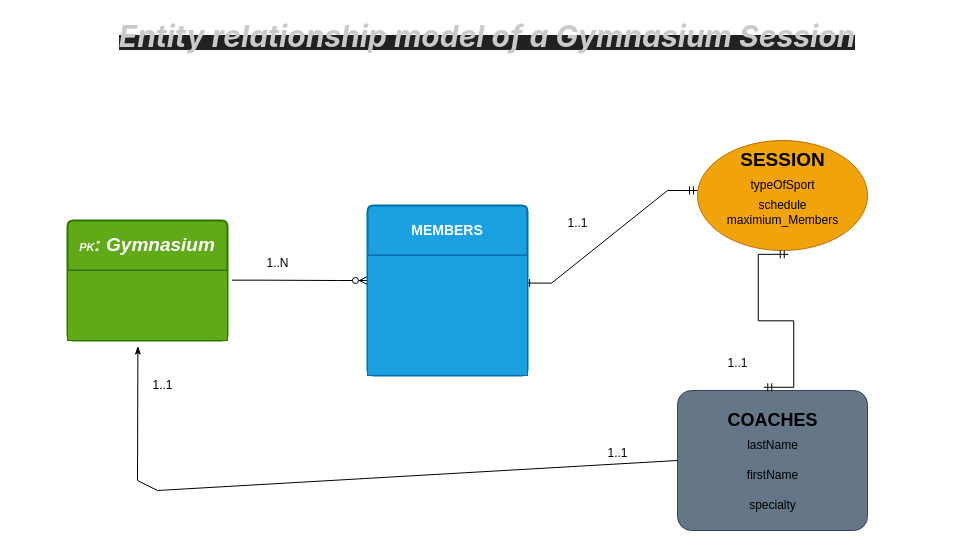
Some shapes in this 974 by 548 pixel diagram are drawn without their labels. Each missing label, with the centre of its shape:
"Name Addrress TelephoneNumber" goes at (147,305).
"unique_id name_id firstName lastName address dateOfBirth gender" goes at (447,315).
